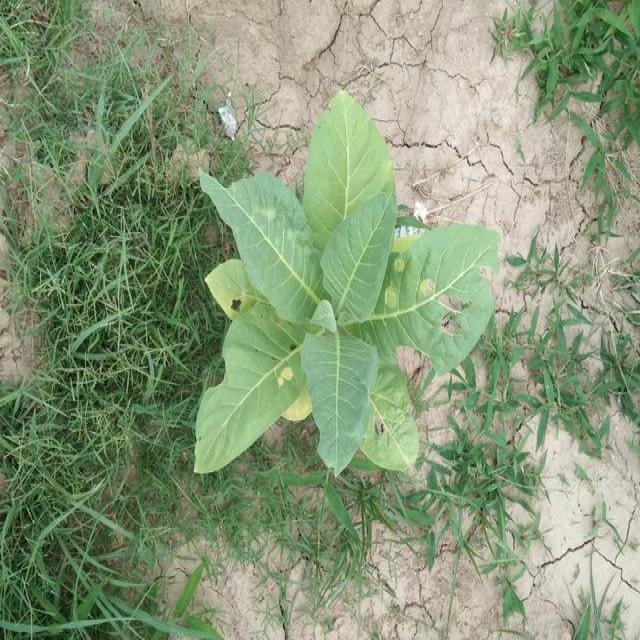crop: (192, 89, 502, 479)
